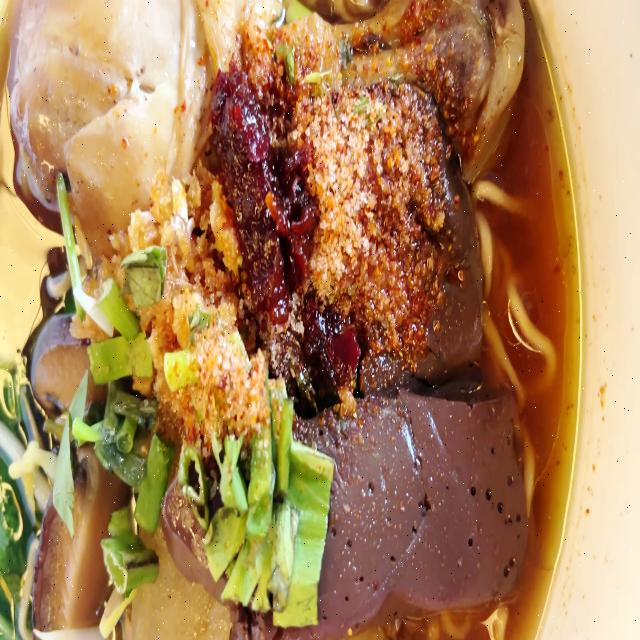boiled_chicken_blood_jelly: (310, 407, 519, 612), (421, 143, 481, 369)
chicken_drumstick: (4, 0, 522, 220)
daikon_radish: (126, 540, 235, 640)
noodle: (0, 0, 563, 640)
